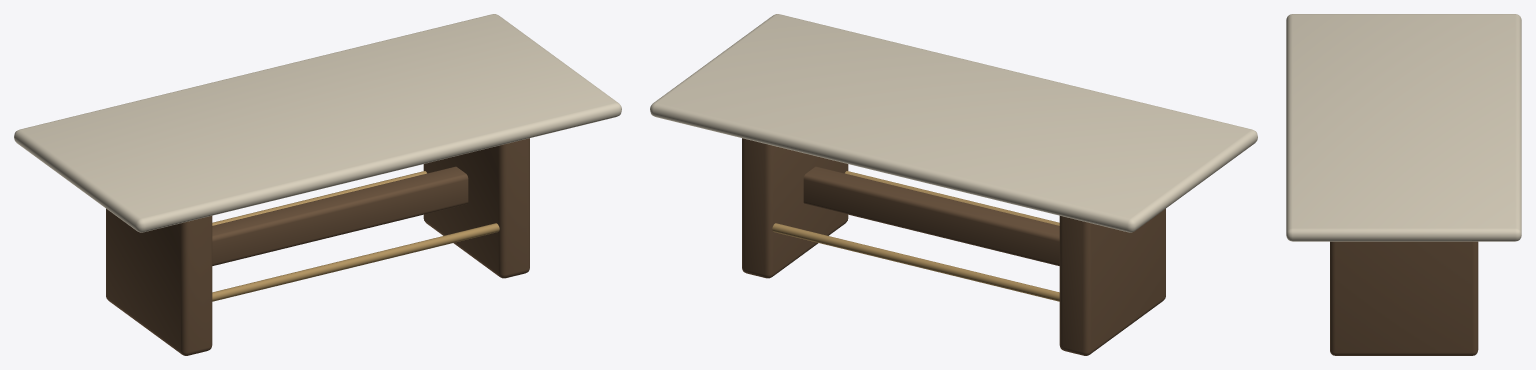
Rendered from dining-table-lod0.glb.
3 views of the same model, side by side, from view 1: azimuth 30°, elevation 25°; view 2: azimuth 150°, elevation 25°; view 3: azimuth 270°, elevation 25° (orthographic). The views are drawn at different scales.
Visible parts, largest first — view 1: dining-table.lod0__dining travertine, dining-table.lod0__dining smoked oak, dining-table.lod0__furniture brushed brass; view 2: dining-table.lod0__dining travertine, dining-table.lod0__dining smoked oak, dining-table.lod0__furniture brushed brass; view 3: dining-table.lod0__dining travertine, dining-table.lod0__dining smoked oak.
Part boxes in pixels (x1,y1,x2,y2): dining-table.lod0__dining travertine: (14,14,621,232); dining-table.lod0__dining smoked oak: (106,138,529,355); dining-table.lod0__furniture brushed brass: (212,171,499,301); dining-table.lod0__dining travertine: (650,14,1257,232); dining-table.lod0__dining smoked oak: (742,138,1165,355); dining-table.lod0__furniture brushed brass: (772,171,1059,301); dining-table.lod0__dining travertine: (1286,14,1521,241); dining-table.lod0__dining smoked oak: (1330,241,1478,355).
Bounding box in the file's own units: 2.2 × 0.74 × 1.
